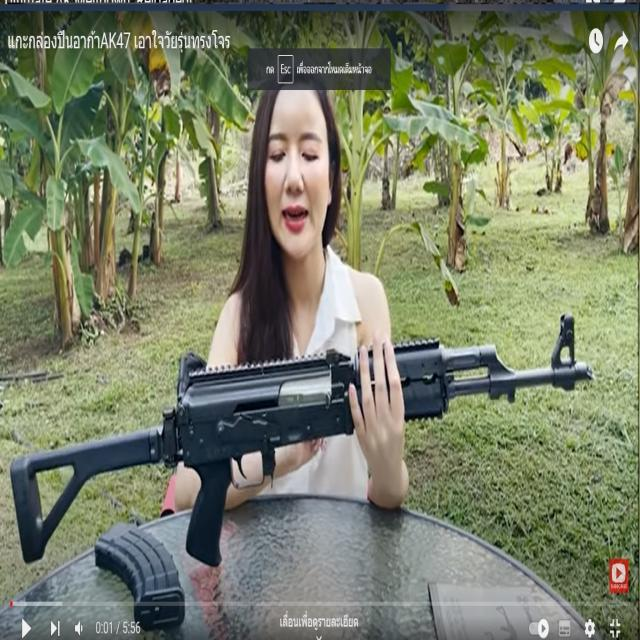ak: (8, 325, 596, 583)
